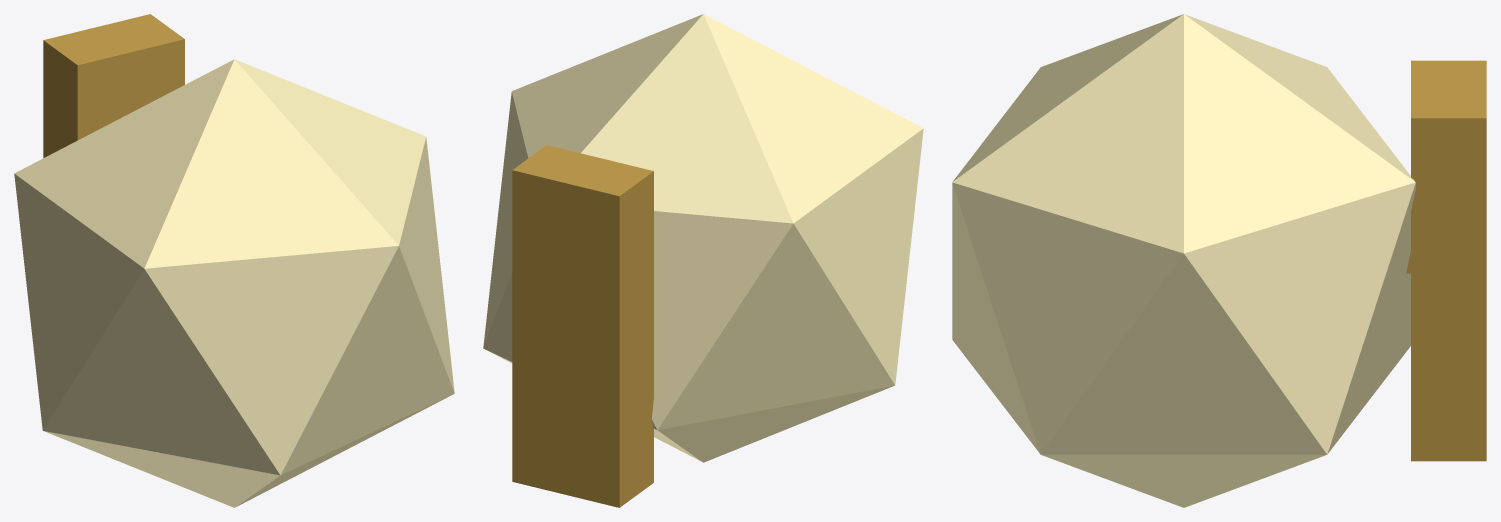
The model's file is wall_lamp.glb.
3 renders of one model, left to right at view 1: azimuth 30°, elevation 25°; view 2: azimuth 150°, elevation 25°; view 3: azimuth 270°, elevation 25°, orthographic. The views are drawn at different scales.
Parts seen in each view (by area): view 1: wall_lamp; view 2: wall_lamp; view 3: wall_lamp.
Part boxes in pixels (x1,y1,x2,y2): wall_lamp: (14,14,454,507); wall_lamp: (483,14,923,507); wall_lamp: (952,14,1486,507).
Size of the model in its own units: 0.644 by 0.72 by 0.7062.
